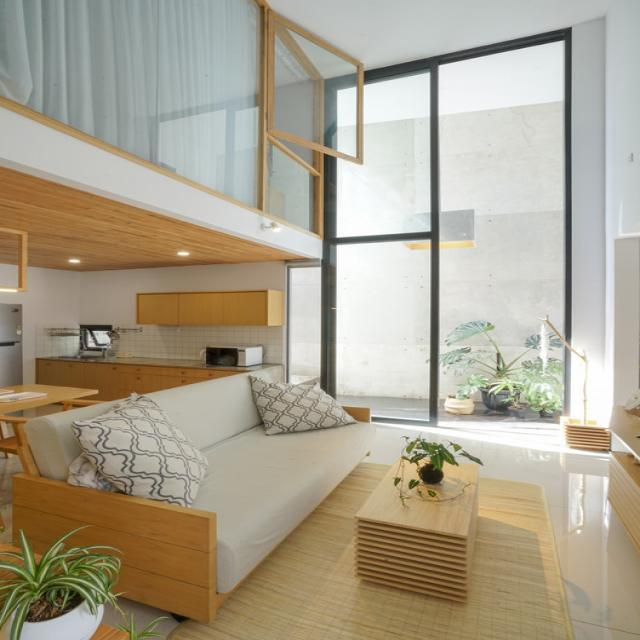couch: (11, 370, 377, 625)
